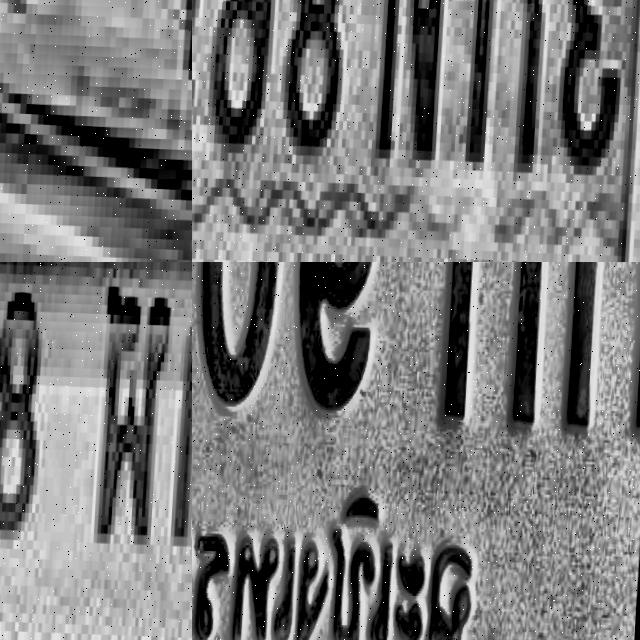license-plate: (192, 262, 640, 640), (192, 0, 640, 262), (0, 262, 192, 640), (0, 0, 192, 262)
